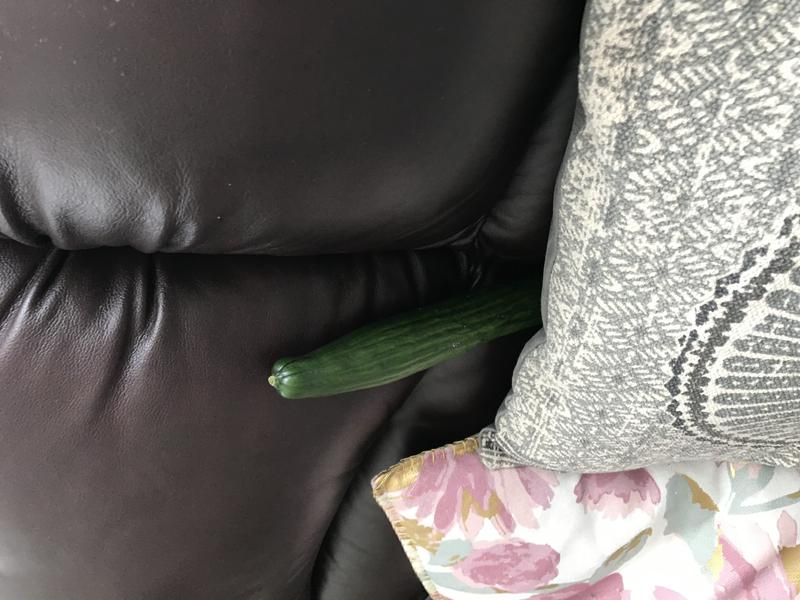cucumber: (246, 272, 570, 409)
